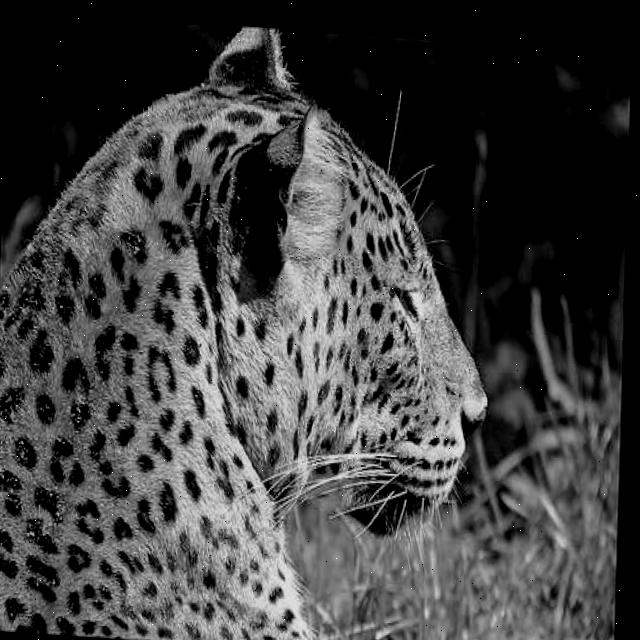Leopard: (22, 51, 491, 640)
